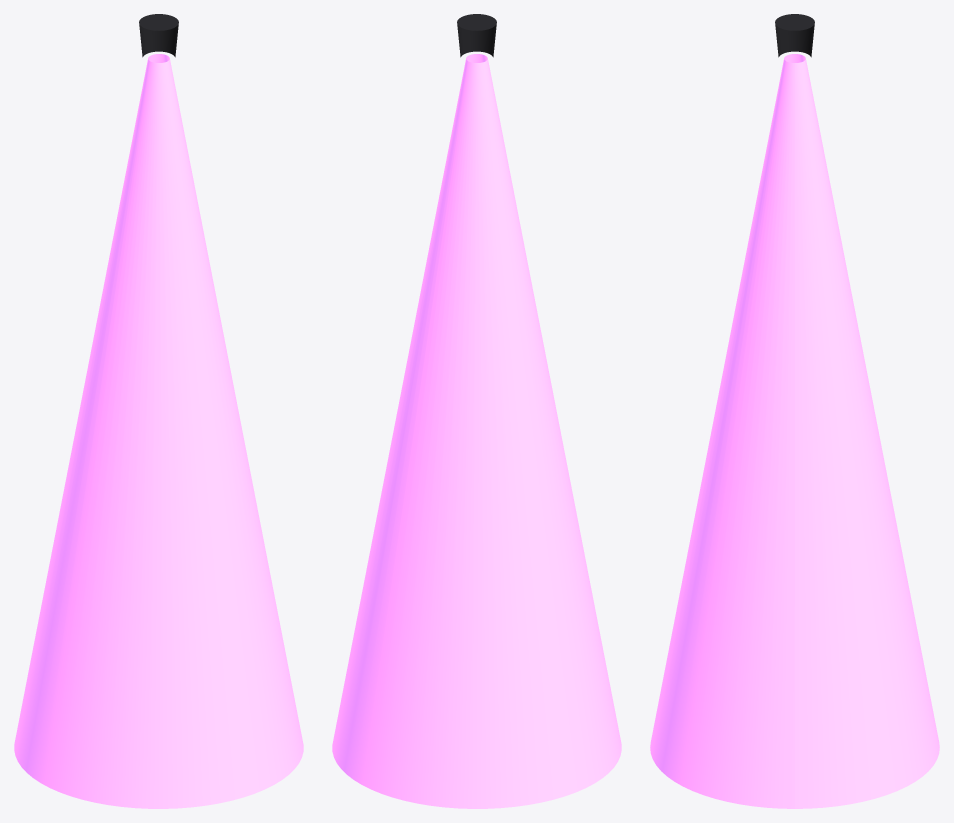
Rendered from beam_violet.glb.
3 views of the same model, side by side, from view 1: azimuth 30°, elevation 25°; view 2: azimuth 150°, elevation 25°; view 3: azimuth 270°, elevation 25° (orthographic).
Visible parts, largest first — view 1: beam, can0, can1; view 2: beam, can0, can1; view 3: beam, can0, can1.
Part boxes in pixels (box(x1,y1,x2,y2)): beam: box(14, 54, 303, 808); can0: box(139, 24, 178, 57); can1: box(139, 14, 178, 30); beam: box(332, 54, 621, 808); can0: box(457, 24, 496, 57); can1: box(457, 14, 496, 30); beam: box(650, 54, 939, 808); can0: box(775, 24, 814, 57); can1: box(775, 14, 814, 30).
Bounding box in the file's own units: 1.6 × 4.42 × 1.6.
